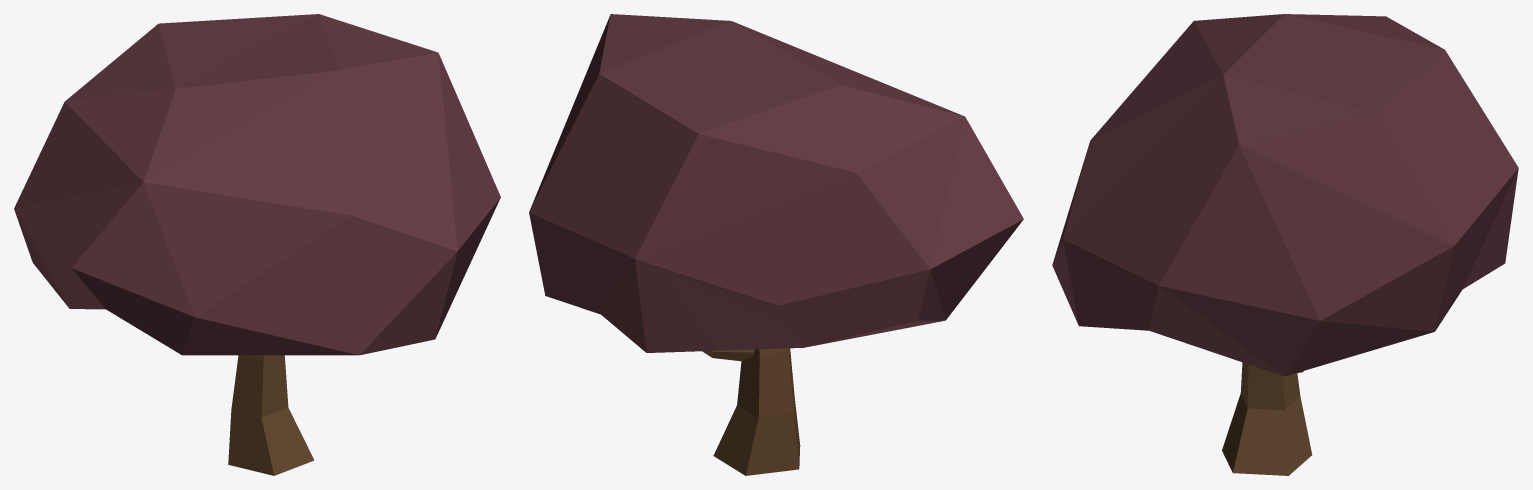
File: bush-small.fbx
3 renders of one model, left to right at view 1: azimuth 30°, elevation 25°; view 2: azimuth 150°, elevation 25°; view 3: azimuth 270°, elevation 25°, orthographic. The views are drawn at different scales.
Visible parts, largest first — view 1: bush-small; view 2: bush-small; view 3: bush-small.
Boxes of the visible parts, bbox=[...] form: bush-small: bbox=[14, 14, 500, 475]; bush-small: bbox=[529, 14, 1023, 475]; bush-small: bbox=[1052, 14, 1518, 475].
Bounding box in the file's own units: 0.6632 × 0.604 × 0.6237.
